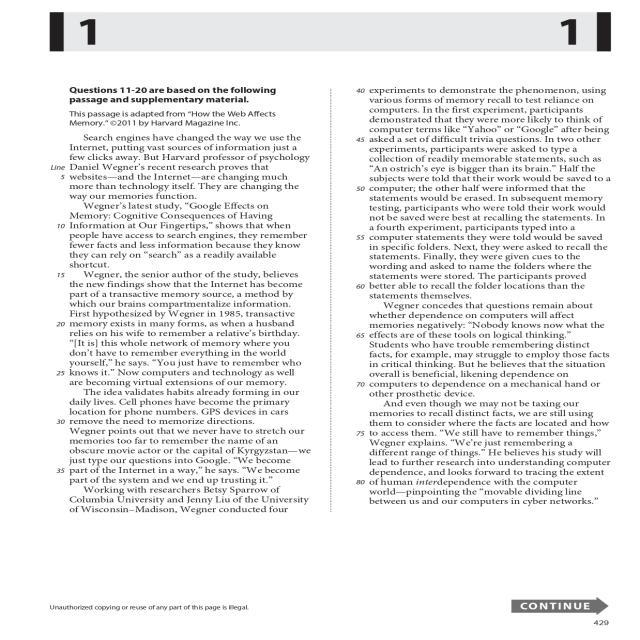Instruction: (340, 82, 622, 514), (48, 85, 326, 518)
Question_Paper_Area: (340, 82, 622, 514), (48, 85, 326, 518)
